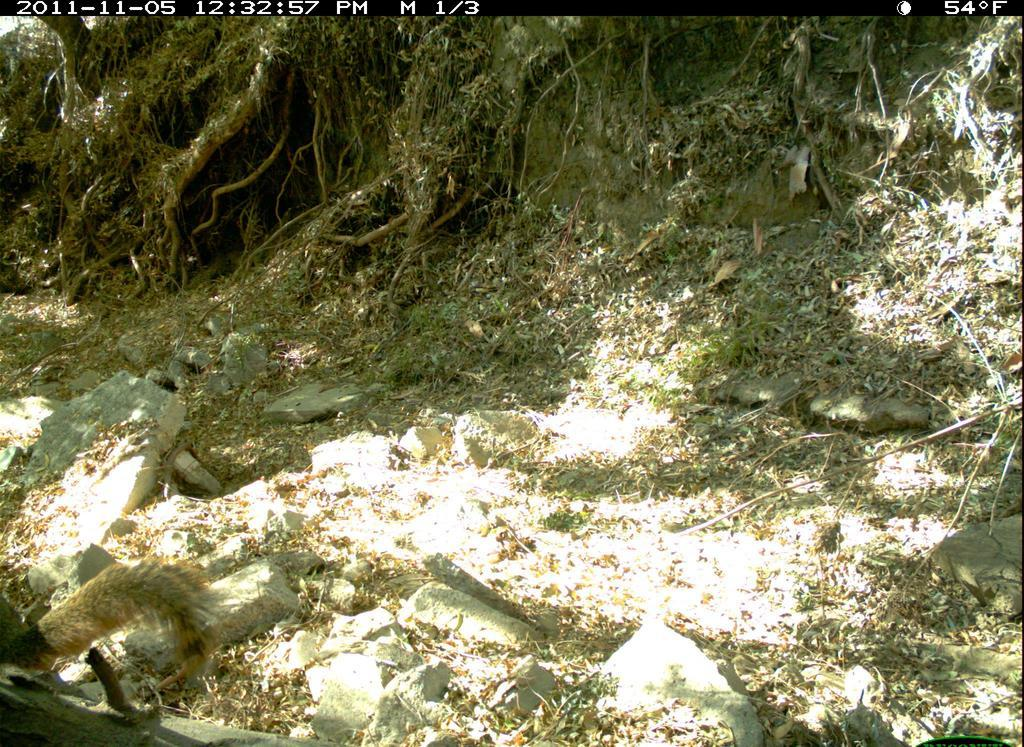squirrel: (1, 551, 225, 725)
